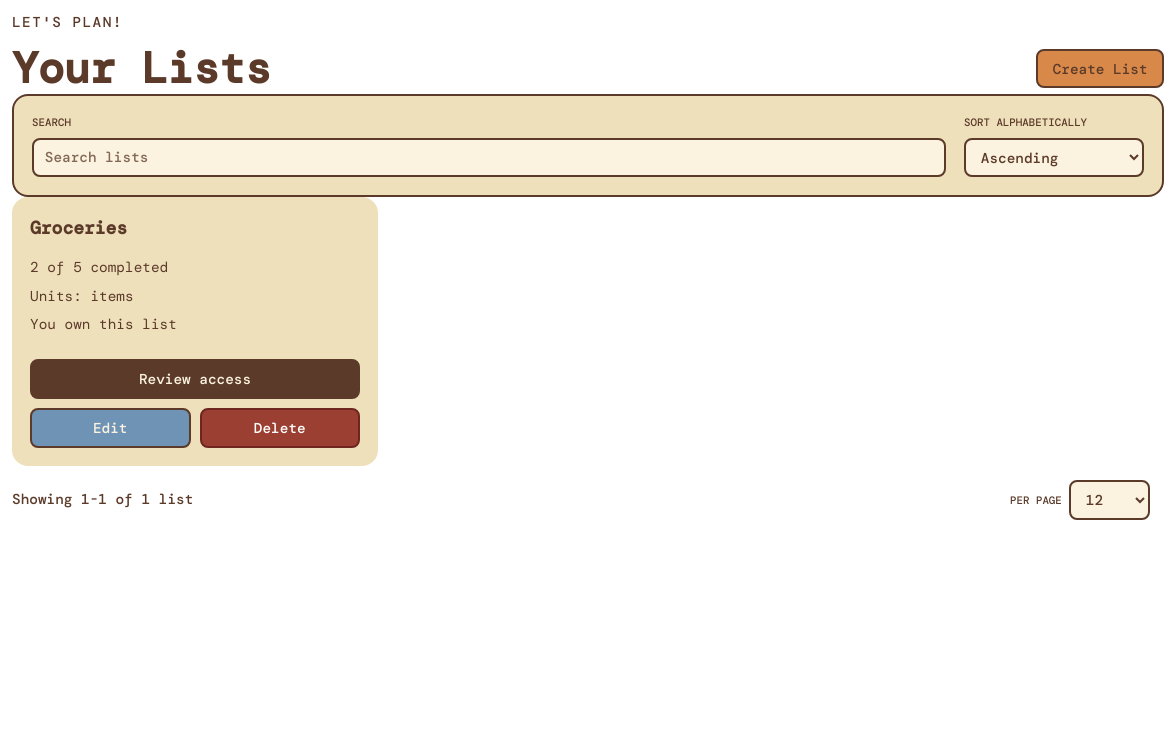
it: ListsPage › keeps stale lists when a later load fails and replaces them on reload
This screenshot has width=1176, height=732.
expect the heading "Groceries" is shown: met, box [30,216,127,240]
Select "Descending" in the dropdown labelled "Sort alphabetically" at x=1054, y=158, box [964,138,1144,177]
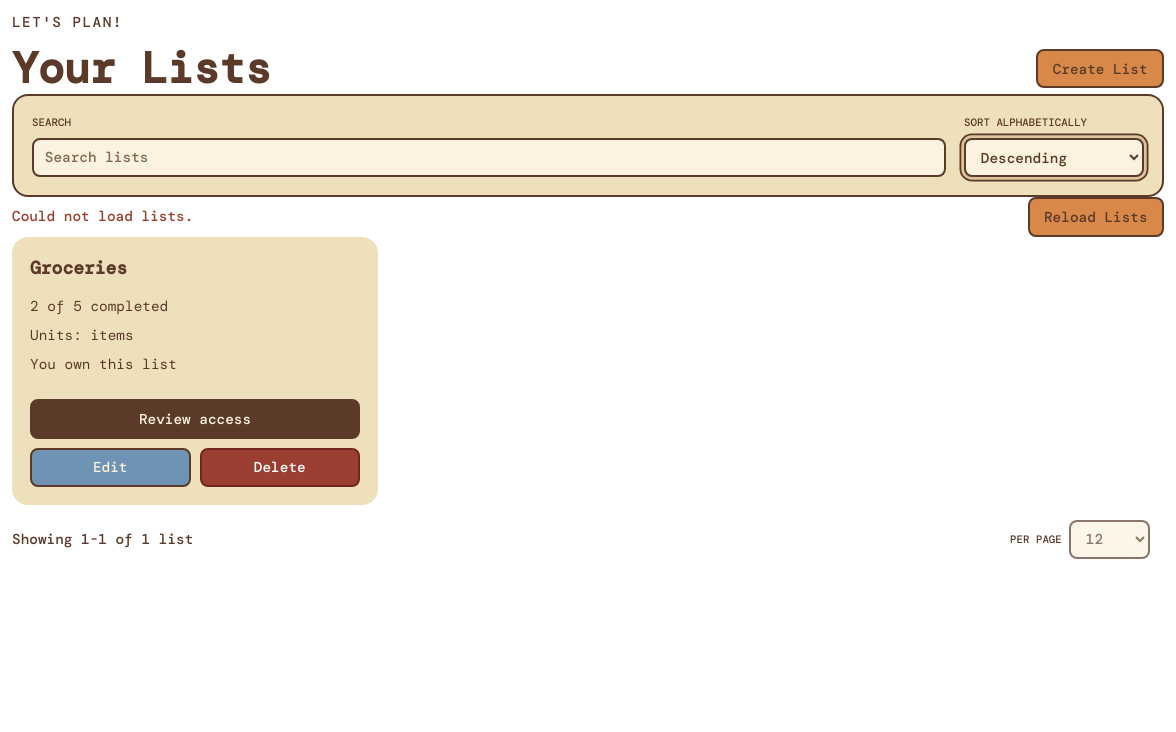
expect the heading "Groceries" is shown: met, box [30,256,127,280]
expect the message reads "Could not load lists.": met, box [12,207,193,225]
expect the button "Reload Lists" is shown: met
Click the button "Reload Lists" at x=1096, y=217, box [1028,197,1164,237]
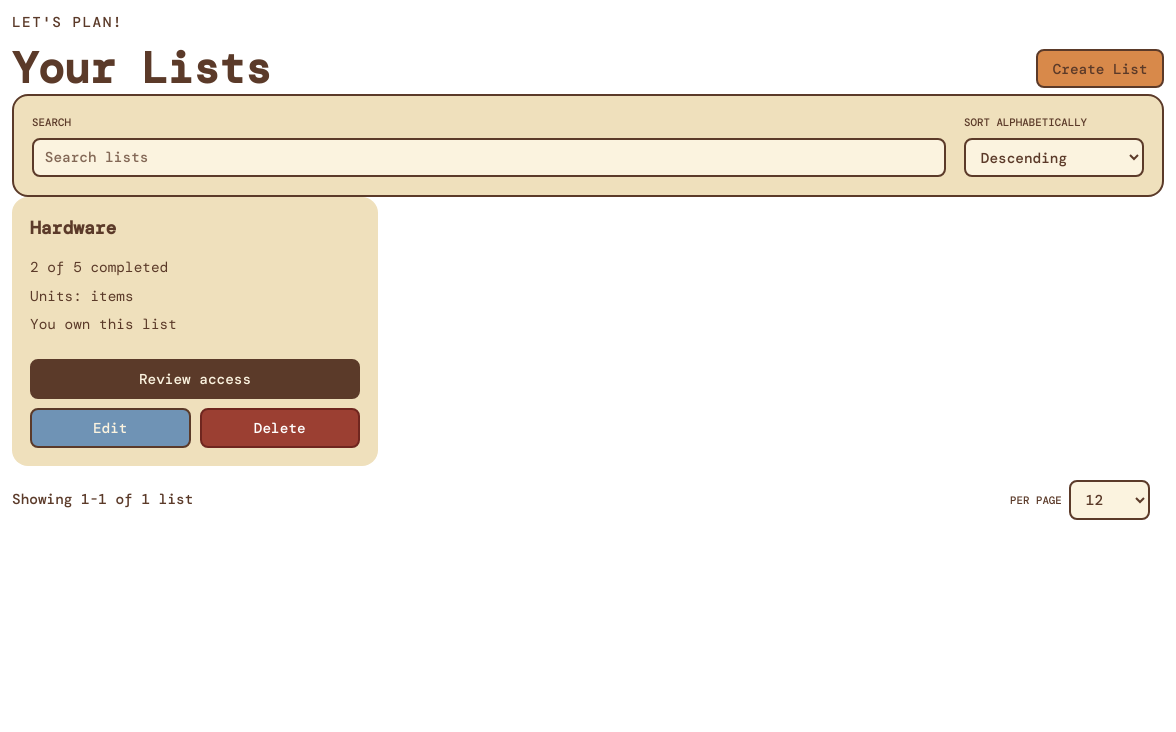
expect the heading "Hardware" is shown: met, box [30,216,116,240]
expect the heading "Groceries" is gone: met
expect the message "Could not load lists." is gone: met
